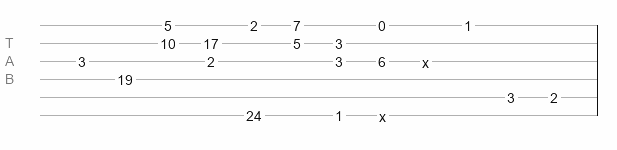0: (378, 18, 386, 28)
1: (335, 108, 343, 118), (464, 18, 472, 28)
10: (160, 36, 176, 46)
17: (203, 36, 219, 46)
19: (117, 72, 133, 82)
2: (207, 54, 215, 64), (250, 18, 258, 28), (550, 90, 558, 100)
24: (246, 108, 262, 118)
3: (78, 54, 86, 64), (335, 54, 343, 64), (335, 36, 343, 46), (507, 90, 515, 100)
5: (164, 18, 172, 28), (293, 36, 301, 46)
6: (378, 54, 386, 64)
7: (293, 18, 301, 28)
x: (379, 109, 386, 117), (422, 55, 429, 63)
